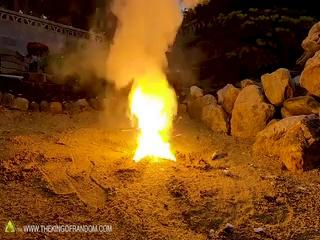Fire: (127, 69, 179, 159)
